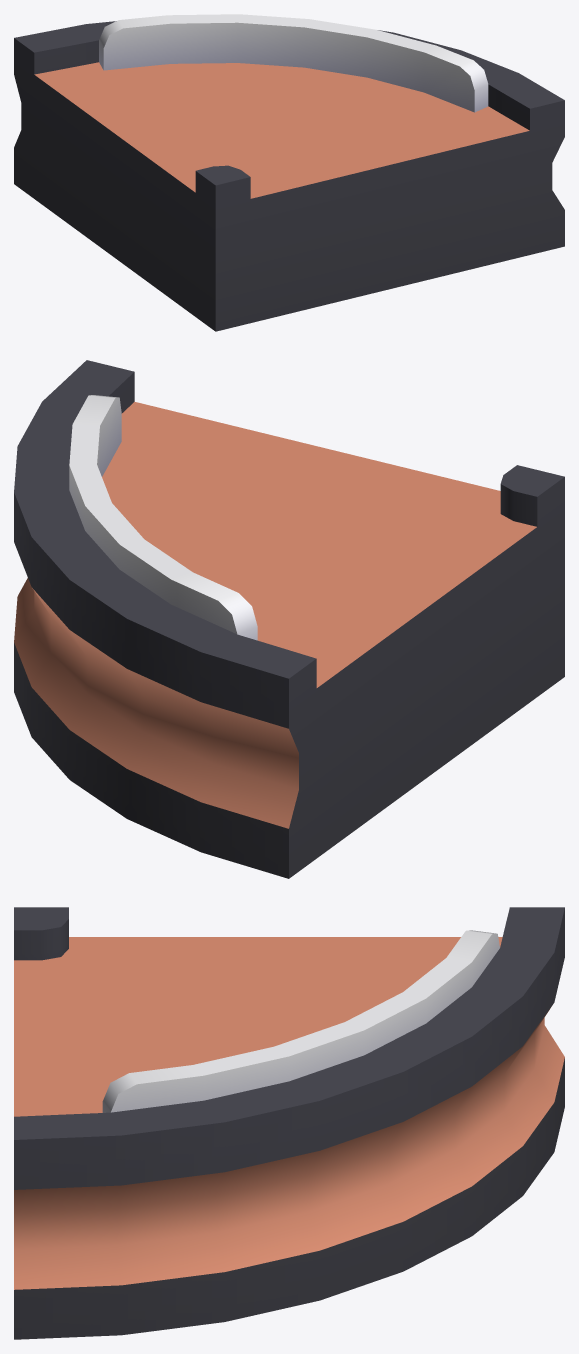
The model's file is conveyor-corner.obj.
The picture shows the model from 3 angles, top to bottom: view 1: azimuth 30°, elevation 25°; view 2: azimuth 150°, elevation 25°; view 3: azimuth 270°, elevation 25°; orthographic projection. The views are drawn at different scales.
Visible parts, largest first — view 1: conveyor-corner; view 2: conveyor-corner; view 3: conveyor-corner.
Part boxes in pixels (x1,y1,x2,y2): conveyor-corner: [14, 14, 564, 331]; conveyor-corner: [14, 360, 564, 878]; conveyor-corner: [14, 907, 564, 1339].
Bounding box in the file's own units: 1 × 0.45 × 1.
